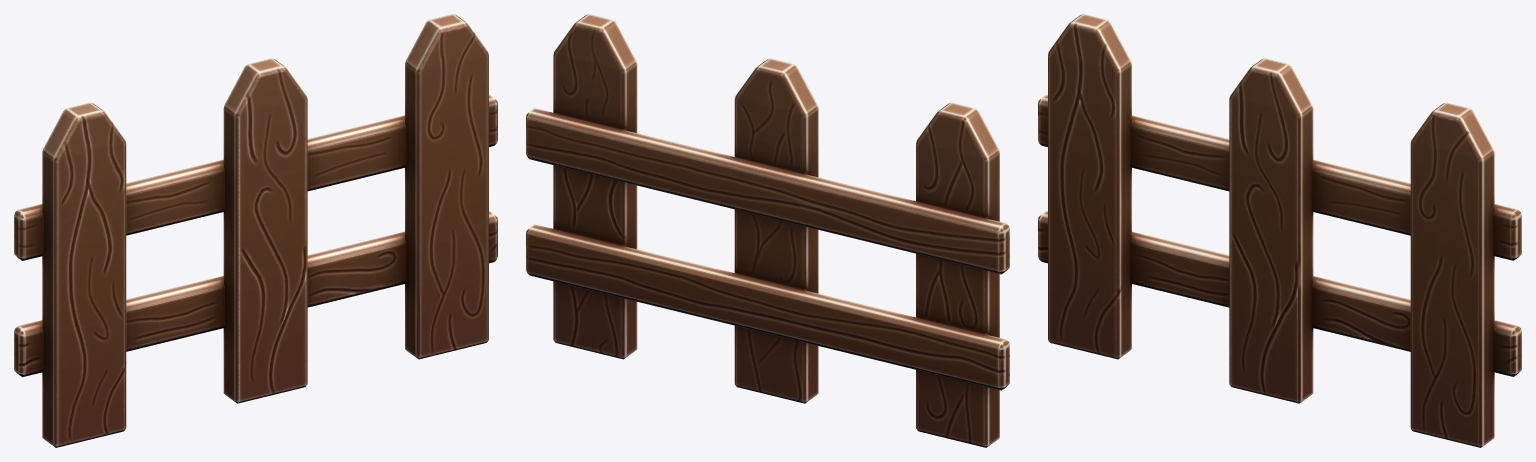
The model's file is fence-4d3f7d.glb.
The picture shows the model from 3 angles, left to right: view 1: azimuth 30°, elevation 25°; view 2: azimuth 150°, elevation 25°; view 3: azimuth 330°, elevation 25°; orthographic projection.
Visible parts, largest first — view 1: Cerca02_lambert1_0; view 2: Cerca02_lambert1_0; view 3: Cerca02_lambert1_0.
Boxes of the visible parts, box(x1,y1,x2,y2) form: Cerca02_lambert1_0: box(14, 14, 497, 447); Cerca02_lambert1_0: box(526, 14, 1009, 447); Cerca02_lambert1_0: box(1038, 14, 1521, 447).
Size of the model in its own units: 4.2 by 2.73 by 0.3207.
1 material, 1 textured.
